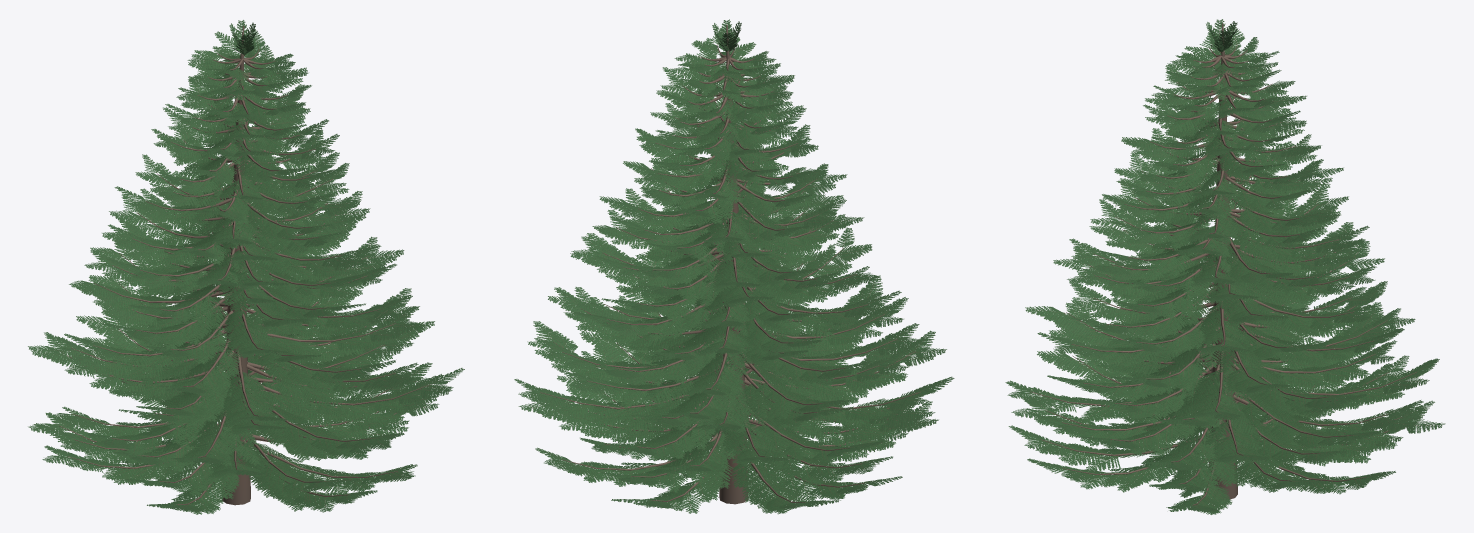
The model's file is eco_tree_conifer_a_LOD0.glb.
The picture shows the model from 3 angles, left to right: view 1: azimuth 30°, elevation 25°; view 2: azimuth 150°, elevation 25°; view 3: azimuth 270°, elevation 25°; orthographic projection.
Visible parts, largest first — view 1: eco_tree_conifer_a_LOD0; view 2: eco_tree_conifer_a_LOD0; view 3: eco_tree_conifer_a_LOD0.
Boxes of the visible parts, x1,y1,x2,y2 form: eco_tree_conifer_a_LOD0: (28,20,464,514); eco_tree_conifer_a_LOD0: (514,19,954,514); eco_tree_conifer_a_LOD0: (1005,19,1445,514).
Bounding box in the file's own units: 7.1 × 7.99 × 7.11.
Materials: 2 (1 with a texture image).
